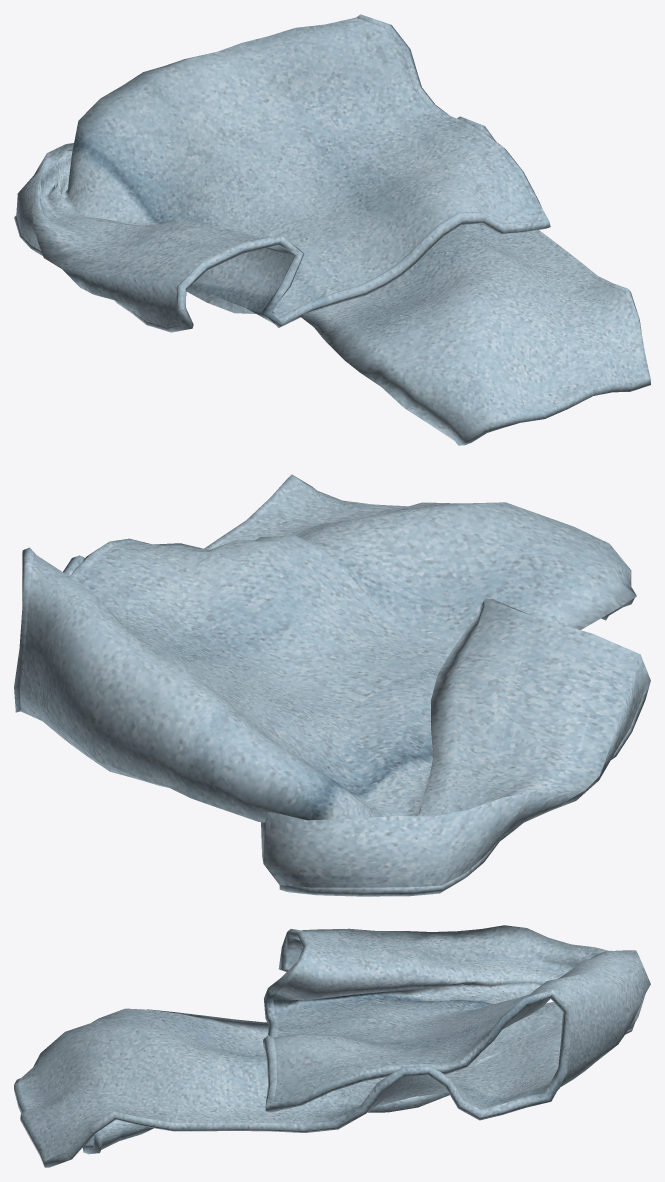
Rendered from frl_apartment_towel.glb.
3 views of the same model, one above another, from view 1: azimuth 30°, elevation 25°; view 2: azimuth 150°, elevation 25°; view 3: azimuth 270°, elevation 25° (orthographic). The views are drawn at different scales.
Parts seen in each view (by area): view 1: frl_apartment_towel; view 2: frl_apartment_towel; view 3: frl_apartment_towel.
Boxes of the visible parts, <box> form: frl_apartment_towel: <box>14,14,650,445</box>; frl_apartment_towel: <box>14,474,650,896</box>; frl_apartment_towel: <box>14,925,650,1167</box>.
Bounding box in the file's own units: 0.4373 × 0.1966 × 0.6141.
1 material, 1 textured.
